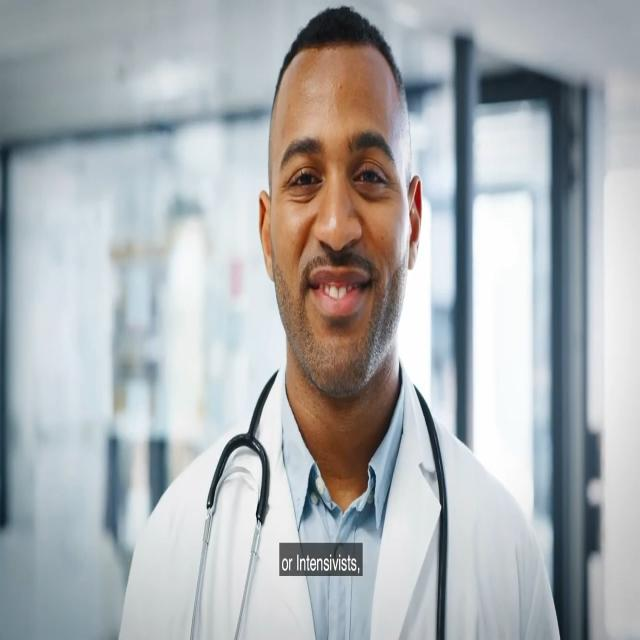Doctor: (206, 1, 492, 480)
